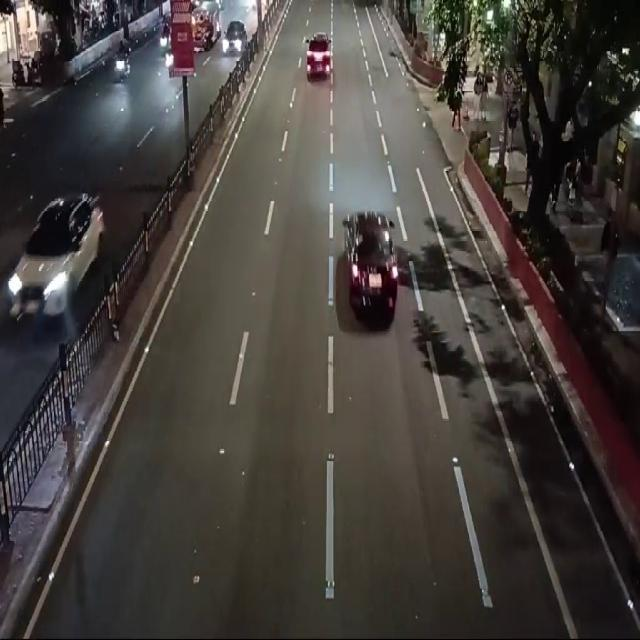car: (13, 190, 99, 325), (332, 204, 407, 322), (301, 28, 336, 89), (224, 20, 248, 58)
